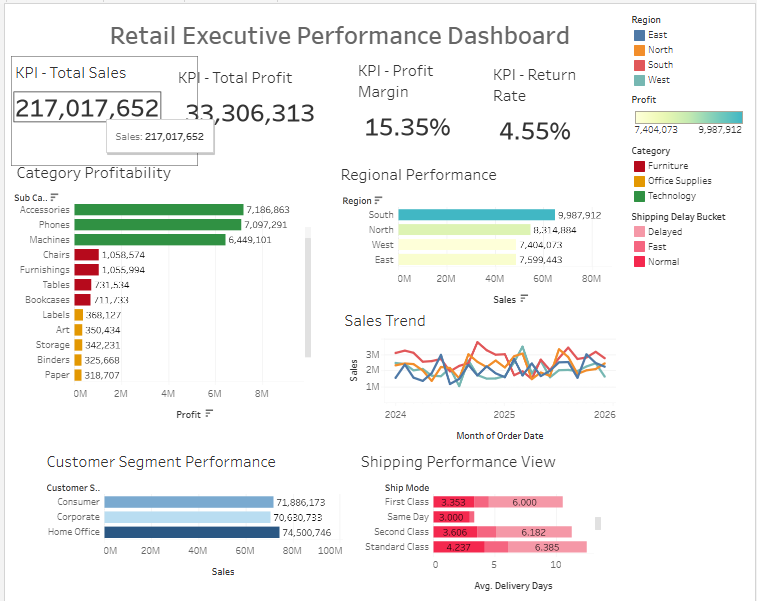

What the dashboard file says about the page in this screenshot:
{"tool":"tableau","page":{"name":"Executive Dashboard","canvas":[1000,800],"ordinal":0},"visuals":[{"type":"legend","title":"Sales Trend","param":"[federated.1c6domg1yl0bqo14c9nxk1163s6v].[none:region:nk]","box":[832,8,160,107]},{"type":"worksheet","title":"KPI - Profit Margin","mark":"Automatic","box":[467,69,333,143]},{"type":"worksheet","title":"KPI - Total Sales","mark":"Automatic","box":[10,71,246,143]},{"type":"worksheet","title":"KPI - Return Rate","mark":"Automatic","box":[647,74,333,143]},{"type":"worksheet","title":"KPI - Total Profit","mark":"Automatic","box":[227,78,333,143]},{"type":"legend","title":"Regional Performance View","param":"[federated.1c6domg1yl0bqo14c9nxk1163s6v].[sum:profit:qk]","box":[832,115,160,68]},{"type":"legend","title":"Category Profitability","param":"[federated.1c6domg1yl0bqo14c9nxk1163s6v].[none:category:nk]","box":[832,183,160,87]},{"type":"worksheet","title":"Category Profitability","mark":"Automatic","rows":["sub_category"],"cols":["profit"],"box":[12,204,405,356]},{"type":"worksheet","title":"Regional Performance View","mark":"Automatic","rows":["region"],"cols":["sales"],"box":[444,207,366,209]},{"type":"legend","title":"Shipping Performance View","param":"[federated.1c6domg1yl0bqo14c9nxk1163s6v].[none:Calculation_0014104976379909:nk]","box":[832,270,160,87]},{"type":"worksheet","title":"Sales Trend","mark":"Automatic","rows":["sales"],"cols":["order_date"],"box":[449,402,366,186]},{"type":"worksheet","title":"Customer Segment Performance","mark":"Automatic","rows":["customer_segment"],"cols":["sales"],"box":[52,590,399,207]},{"type":"worksheet","title":"Shipping Performance View","mark":"Automatic","rows":["ship_mode"],"cols":["delivery_days"],"box":[471,590,333,199]}]}

Visuals, with their boxes in screenshot pixels (x1, y1, x2, y2), scaled from the page's 1000x800 canvas onto the 757x601 screenshot:
"Sales Trend" legend: 630,6,751,86
"KPI - Profit Margin" worksheet: 354,52,606,159
"KPI - Total Sales" worksheet: 8,53,194,161
"KPI - Return Rate" worksheet: 490,56,742,163
"KPI - Total Profit" worksheet: 172,59,424,166
"Regional Performance View" legend: 630,86,751,137
"Category Profitability" legend: 630,137,751,203
"Category Profitability" worksheet: 9,153,316,421
"Regional Performance View" worksheet: 336,156,613,313
"Shipping Performance View" legend: 630,203,751,268
"Sales Trend" worksheet: 340,302,617,442
"Customer Segment Performance" worksheet: 39,443,341,599
"Shipping Performance View" worksheet: 357,443,609,593
